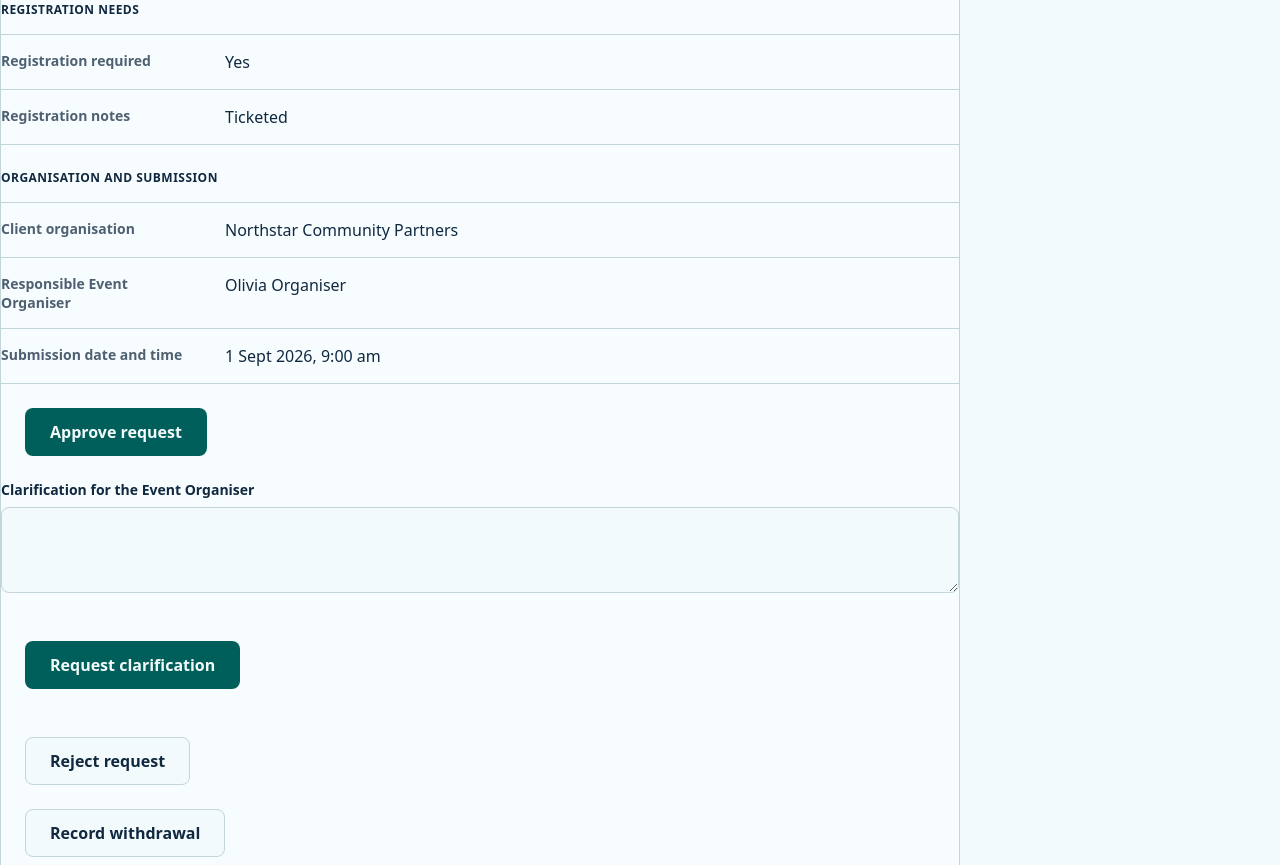
Test: [TC-SPL-65-09] sends the message, then shows the new status and history without the form
(page scrolled)
Type "Please confirm the attendance." into the text box labelled "Clarification for the Event Organiser".
click(480, 550); type("Please confirm the attendance.")  # box [1,507,959,593]
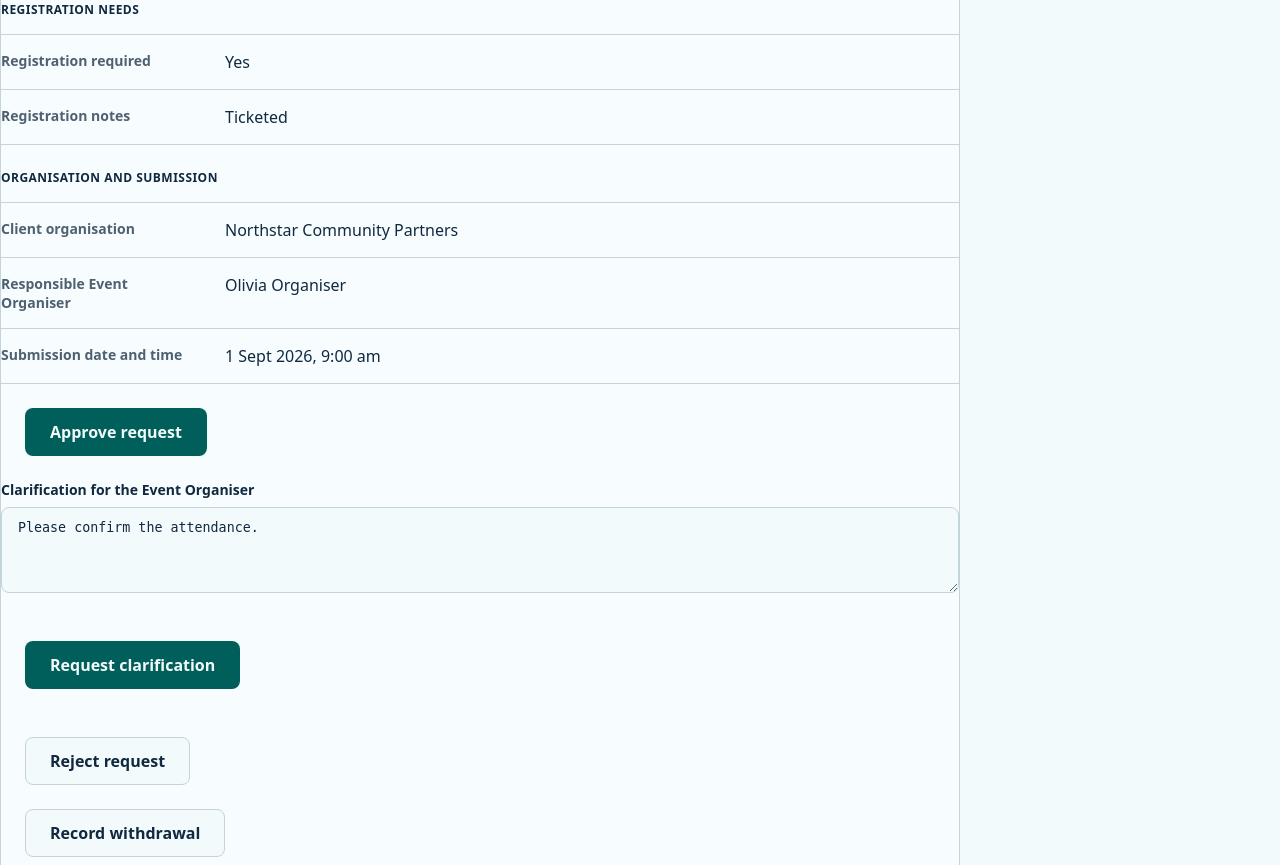
Click the button "Request clarification".
click(133, 665)  # box [25,641,240,689]
(page scrolled)
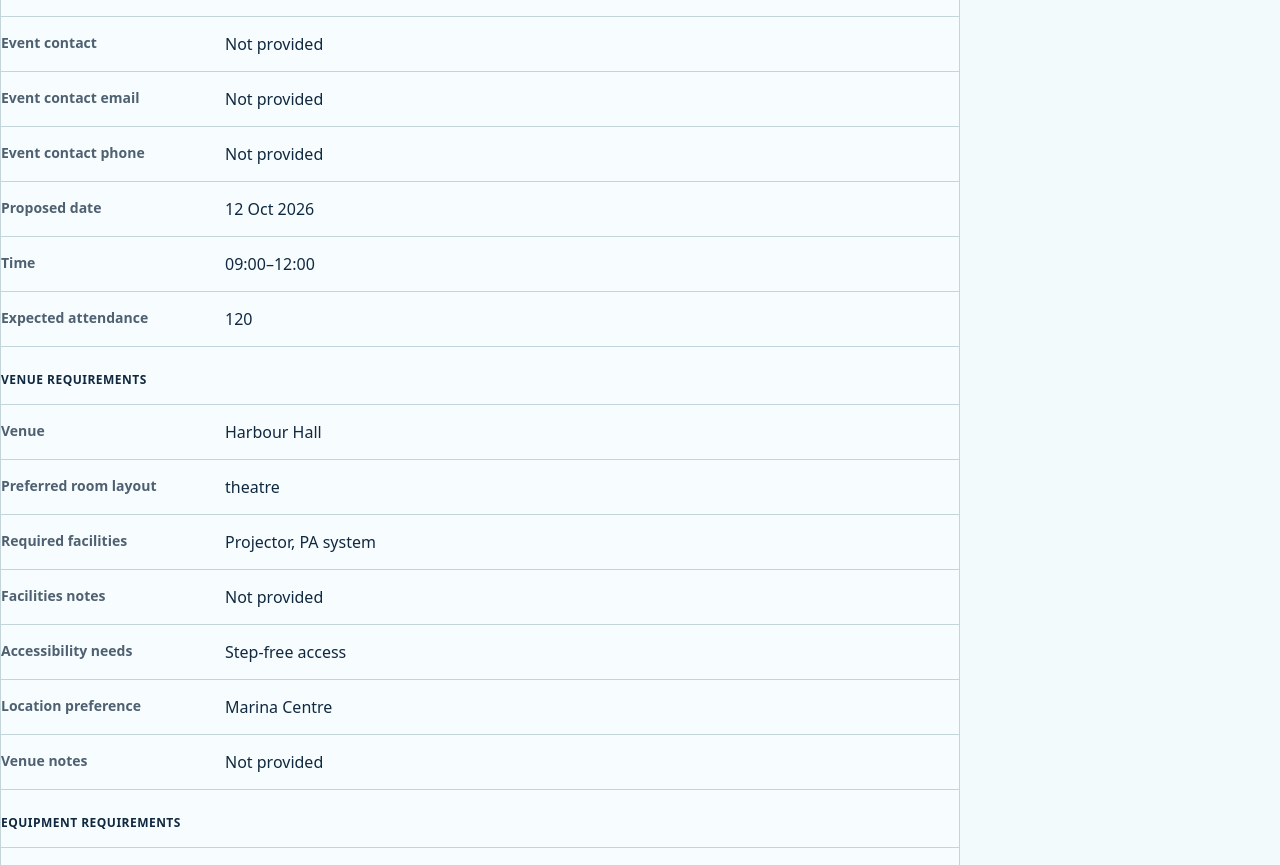
Check: the text "Harbour Hall" is shown, box [225,405,959,460]
Check: the button "Request clarification" is gone
